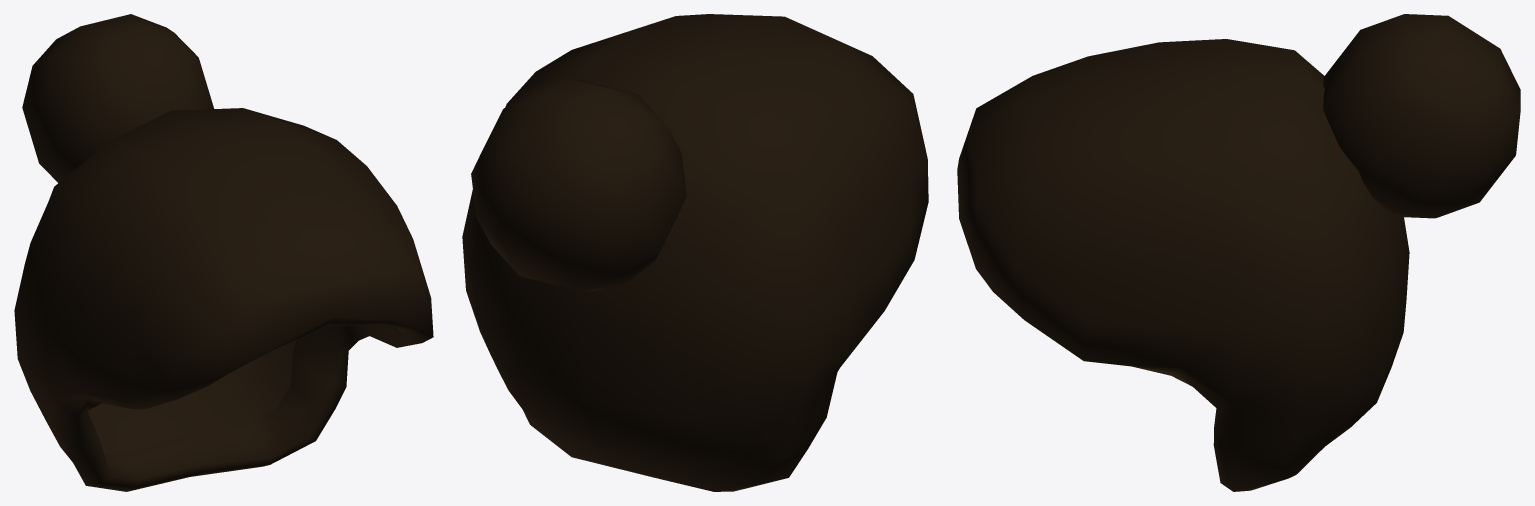
The model's file is hair_top_knot.fbx.
The picture shows the model from 3 angles, left to right: view 1: azimuth 30°, elevation 25°; view 2: azimuth 150°, elevation 25°; view 3: azimuth 270°, elevation 25°; orthographic projection. The views are drawn at different scales.
Parts seen in each view (by area): view 1: hair2, hair_knut; view 2: hair2, hair_knut; view 3: hair2, hair_knut.
Part boxes in pixels (box(x1,y1,x2,y2)): hair2: box(14, 108, 433, 491); hair_knut: box(22, 14, 213, 182); hair2: box(462, 14, 928, 491); hair_knut: box(471, 79, 686, 291); hair2: box(957, 39, 1409, 491); hair_knut: box(1323, 14, 1520, 218).
Bounding box in the file's own units: 27.62 × 32.93 × 39.
